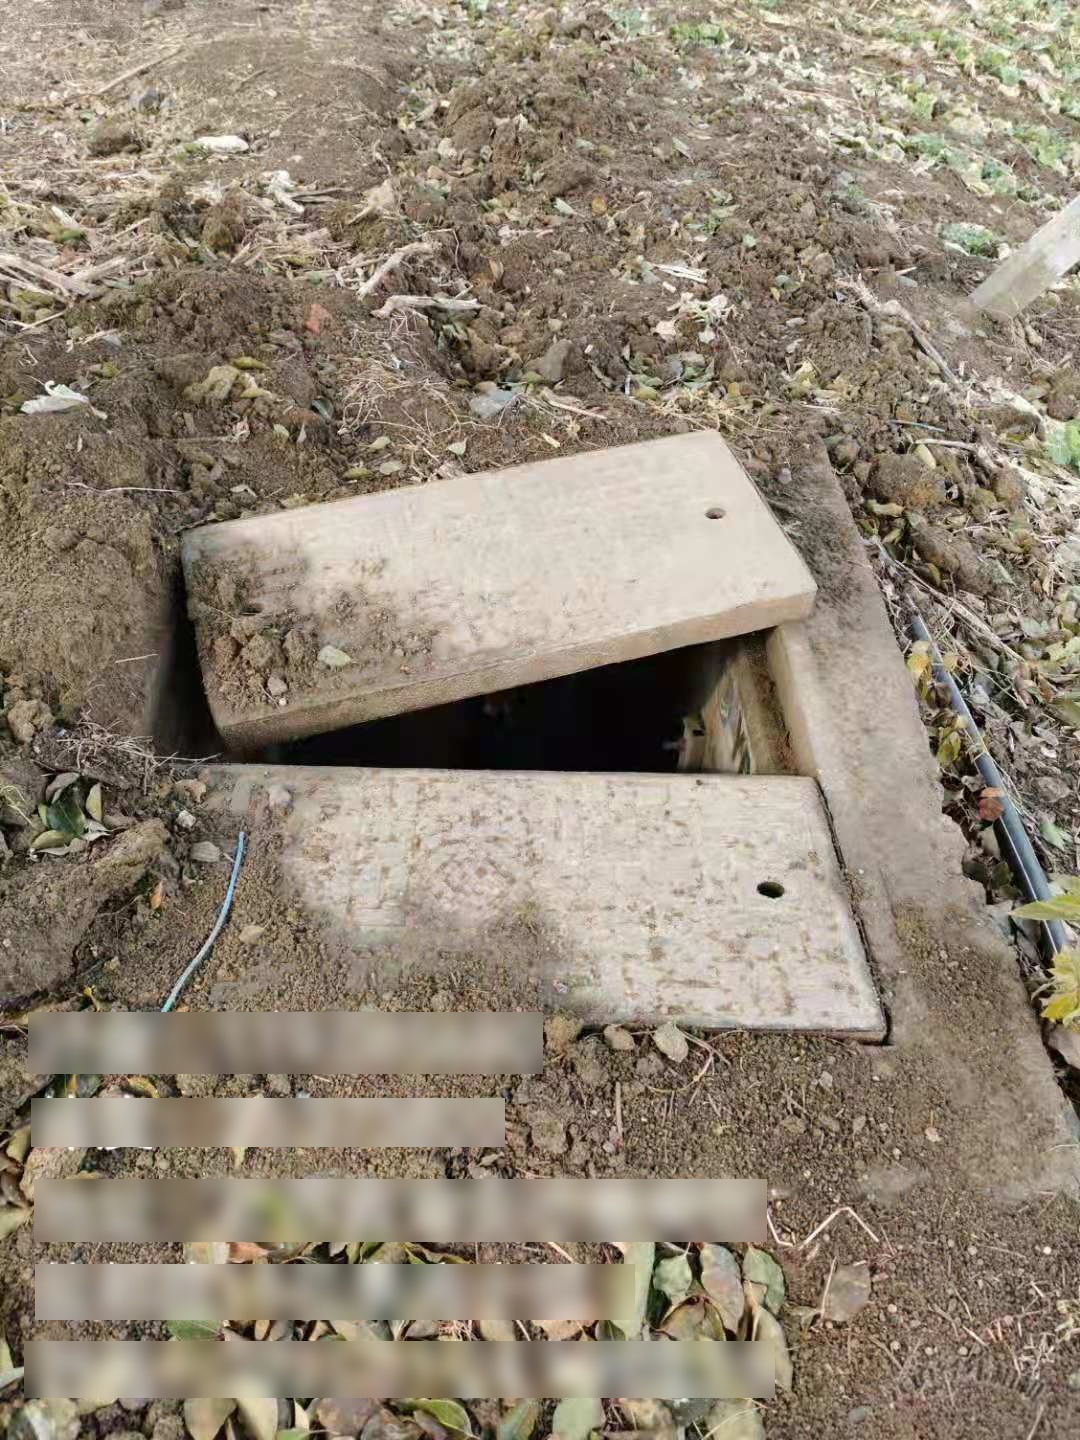uncovered: (53, 404, 1080, 1233)
